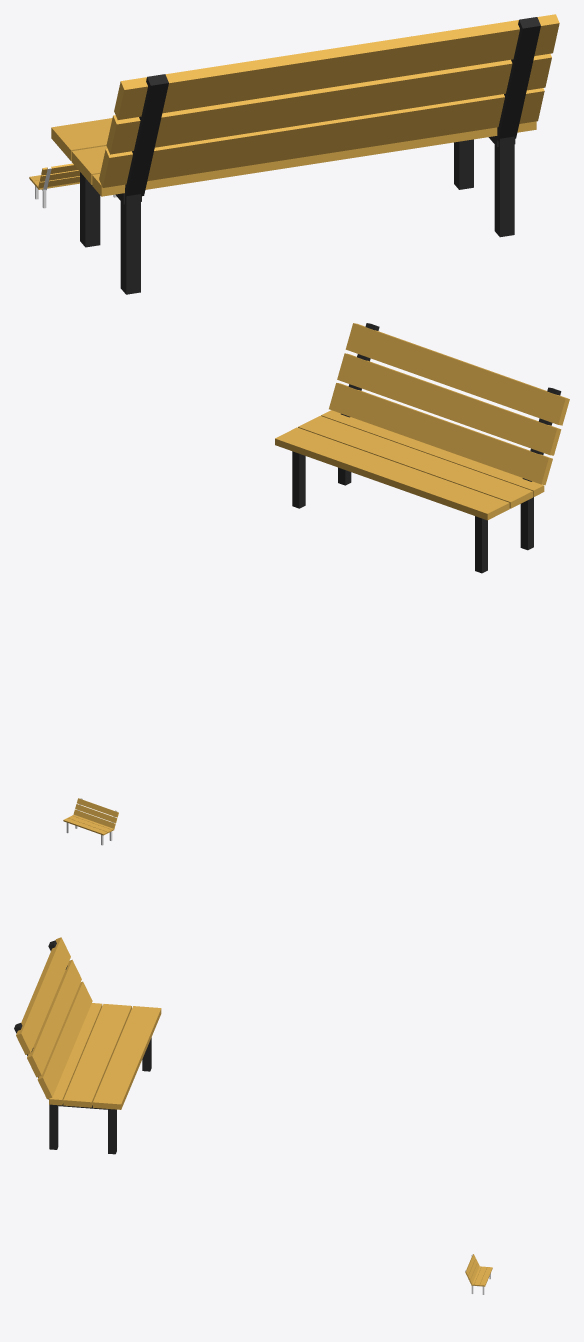
The picture shows the model from 3 angles, top to bottom: view 1: azimuth 30°, elevation 25°; view 2: azimuth 150°, elevation 25°; view 3: azimuth 270°, elevation 25°; orthographic projection. The views are drawn at different scales.
Parts seen in each view (by area): view 1: node-0, Bench; view 2: node-0, Bench; view 3: node-0, Bench.
Part boxes in pixels (box(x1,y1,x2,y2)): node-0: box(51, 14, 559, 294); Bench: box(29, 163, 116, 208); node-0: box(275, 323, 569, 573); Bench: box(63, 798, 118, 845); node-0: box(14, 937, 161, 1154); Bench: box(465, 1254, 492, 1294).
Size of the model in its own units: 2718624 by 3549865 by 6128174.
